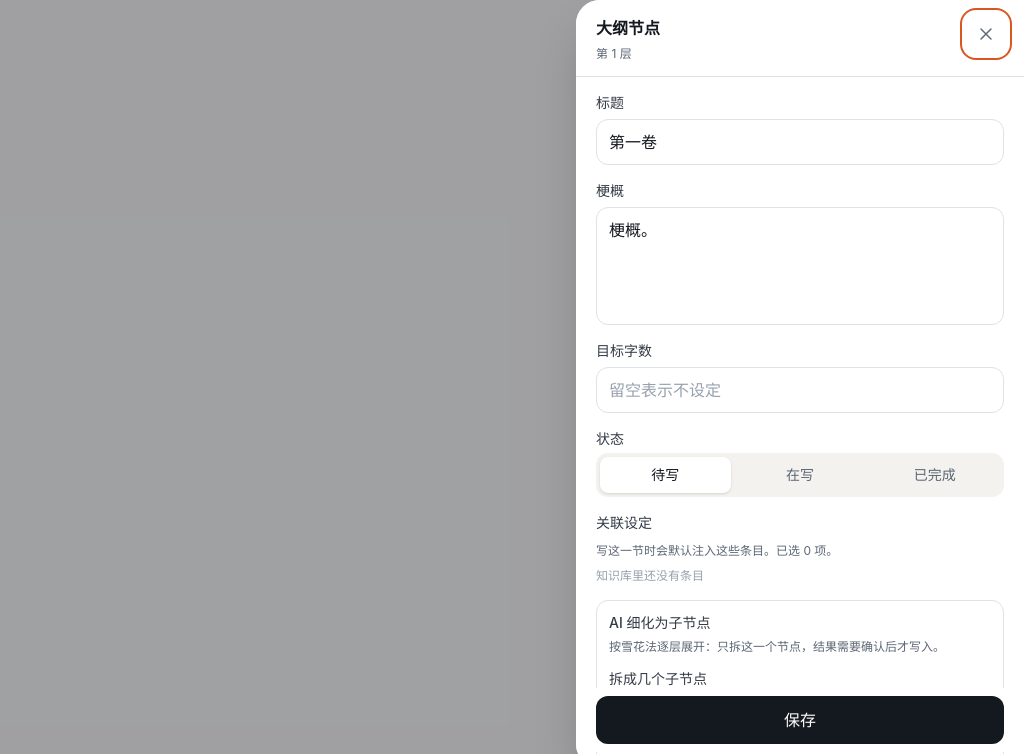
Test: S4 · 细化前先落盘（反向 R24） › 标题为空：不落盘、不发请求、显示校验错误（反向 R24）
Clear the field labelled "标题" at (800, 142), box [596, 118, 1004, 164]
(page scrolled)
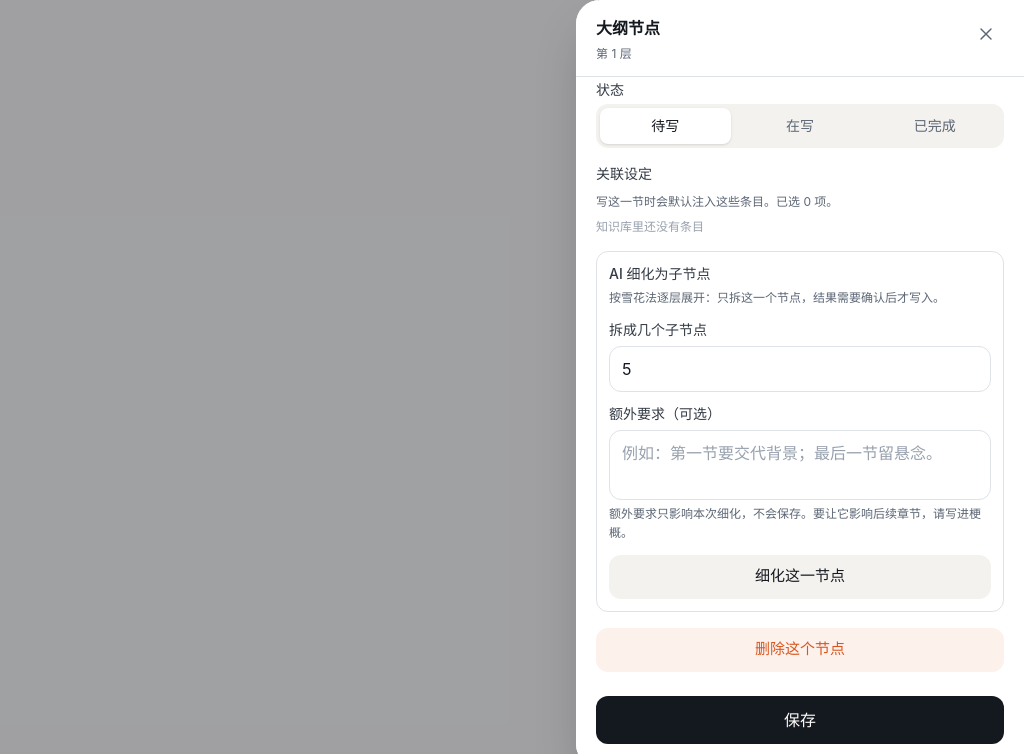
Click the button "细化这一节点" at (800, 576), box [609, 554, 991, 598]
(page scrolled)
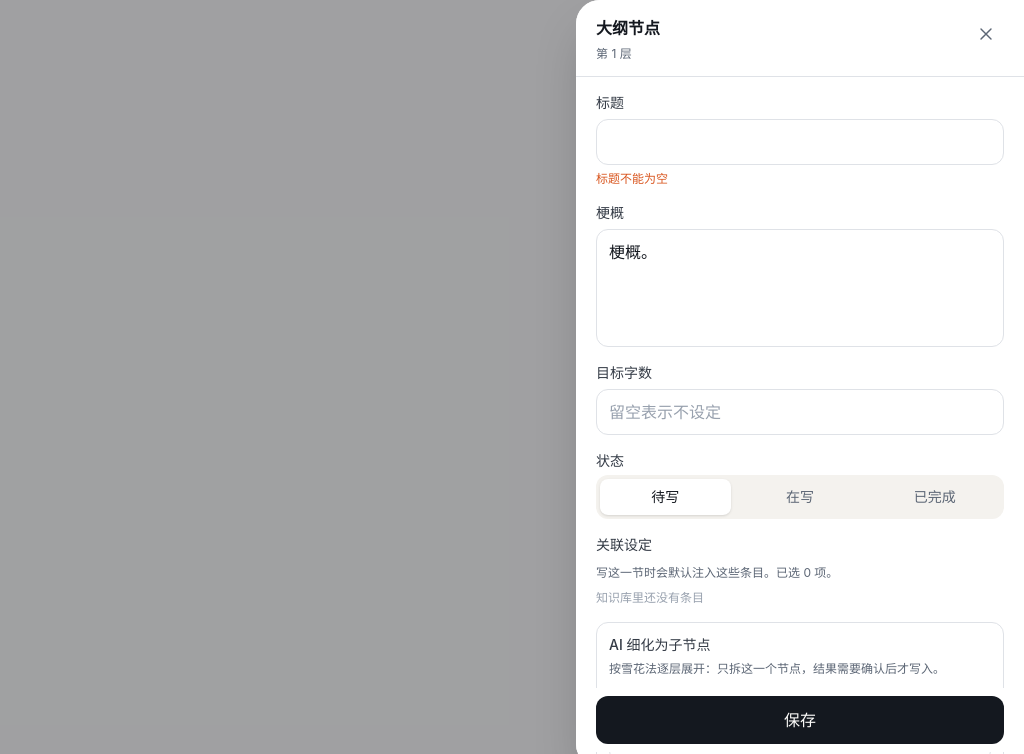
Check: the text "标题不能为空" is shown, box [596, 170, 668, 186]
